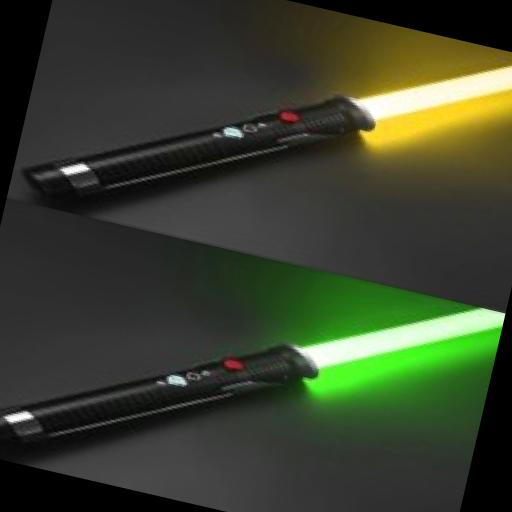lightsaber: (0, 201, 505, 512), (21, 0, 512, 307)
